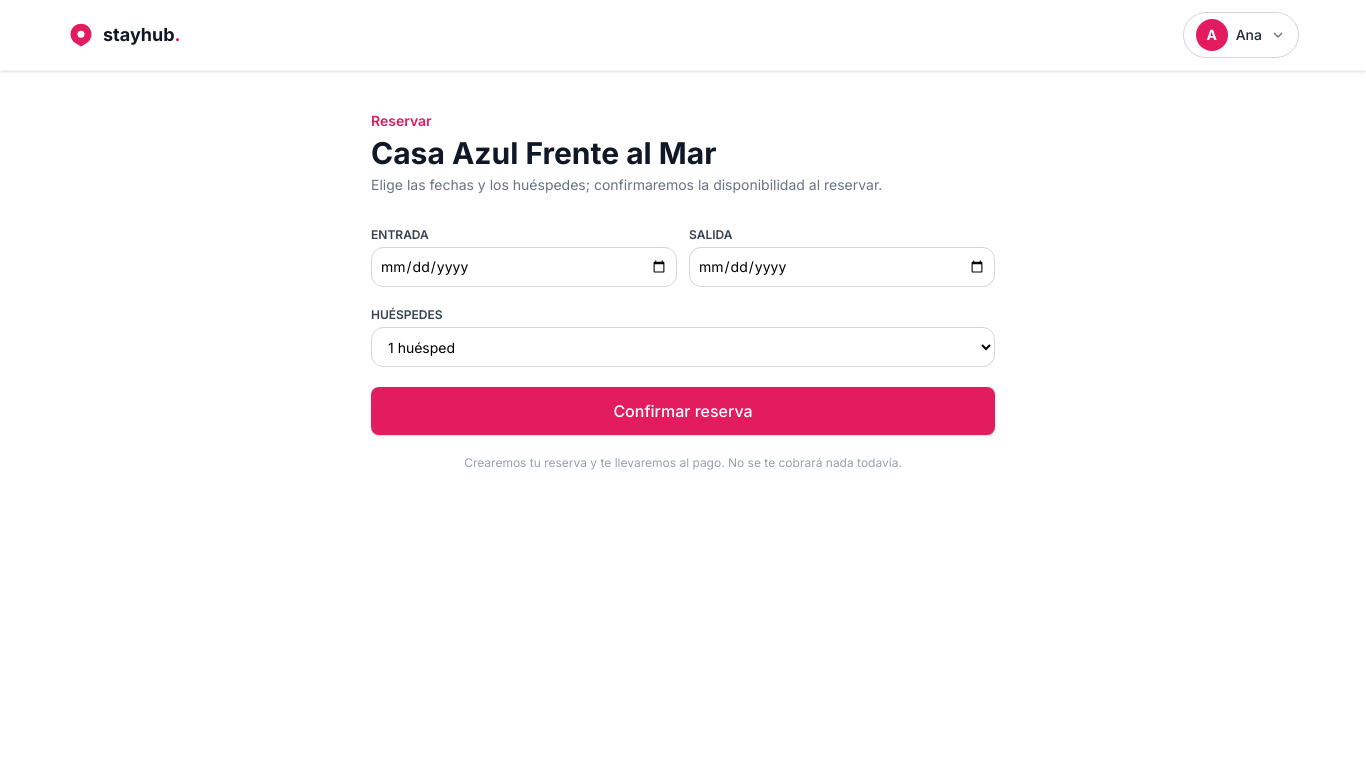
Test: Booking flow — confirmation › shows server field errors (400) without losing input
Expected: the heading "Casa Azul Frente al Mar" is shown, [371,135,716,171]
Type "2027-01-05" into the date field labelled "ENTRADA". click: {"x": 524, "y": 267}
box: [371,247,677,287]
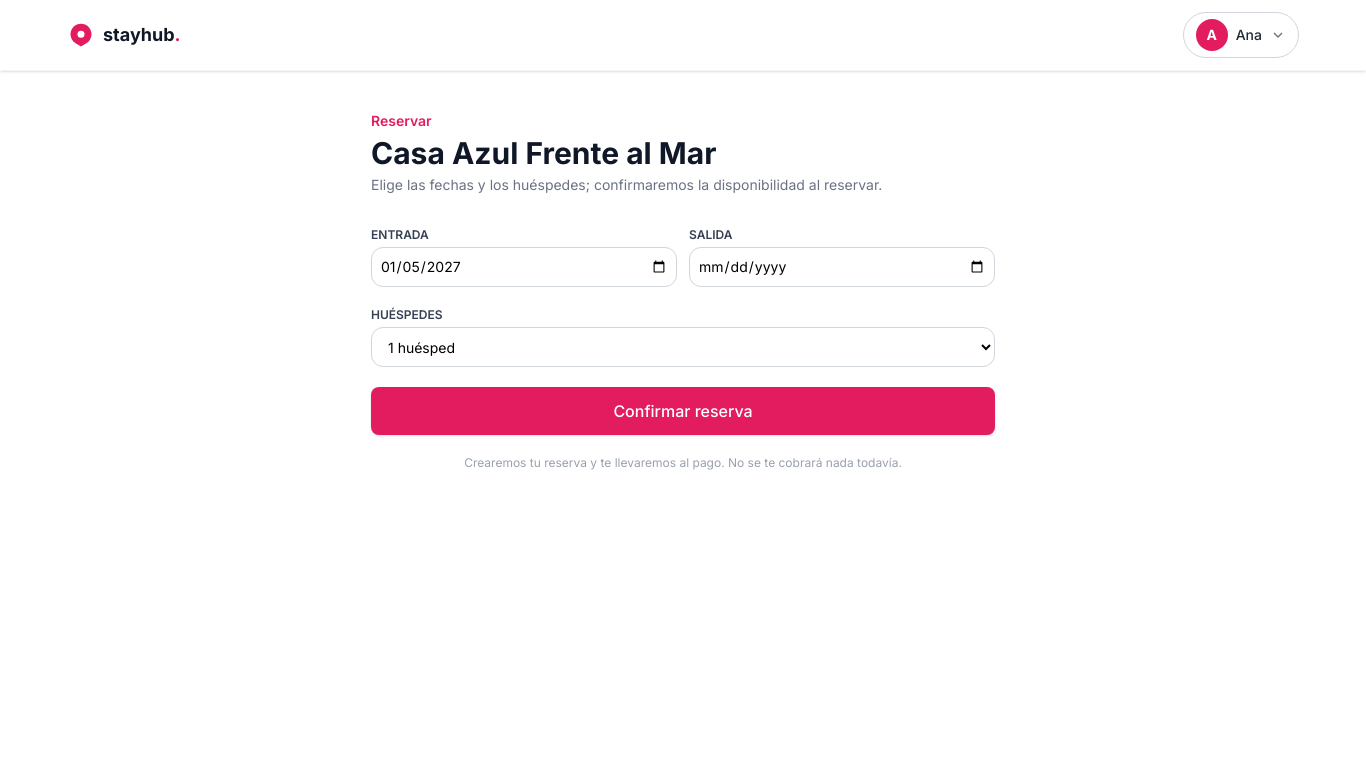
Type "2027-01-08" into the date field labelled "SALIDA". click: {"x": 842, "y": 267}
box: [689,247,995,287]
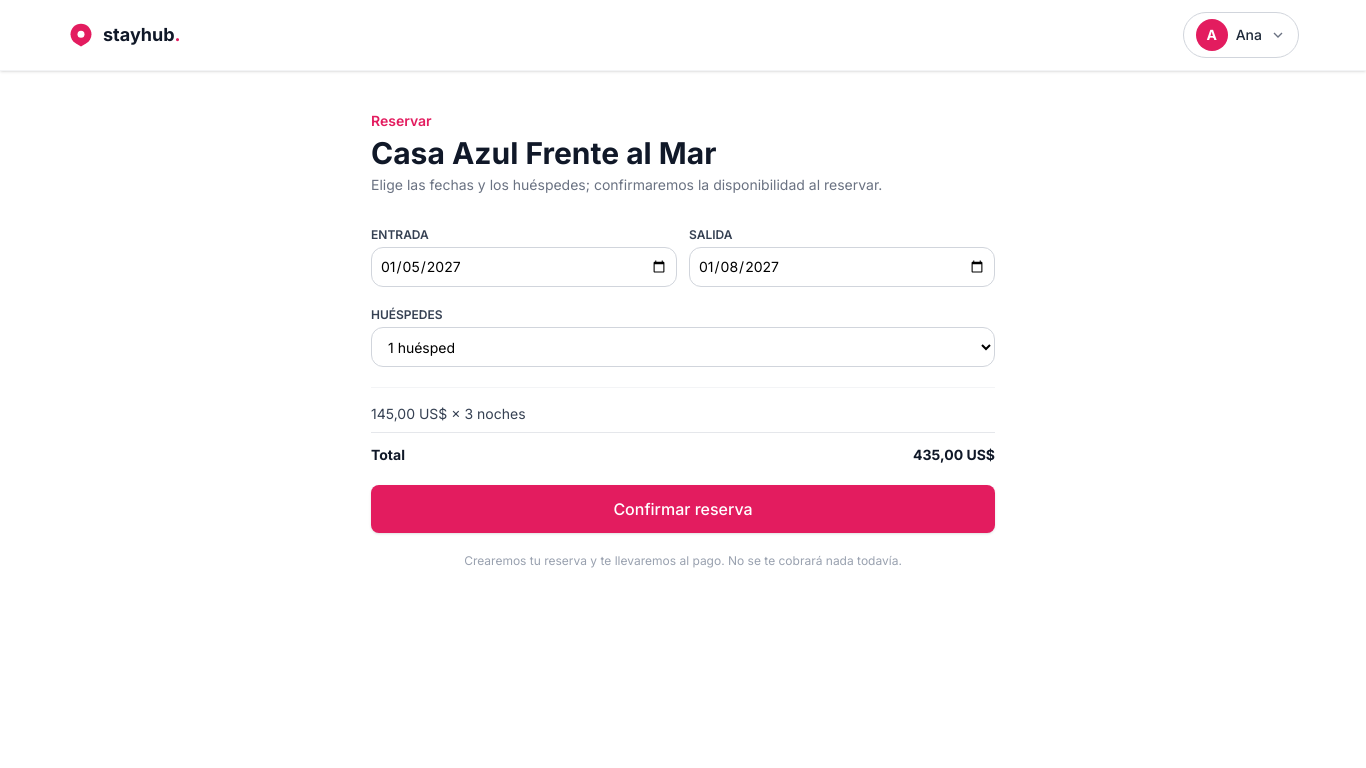
Click the button "Confirmar reserva". click: {"x": 683, "y": 509}
box: [371,485,995,533]
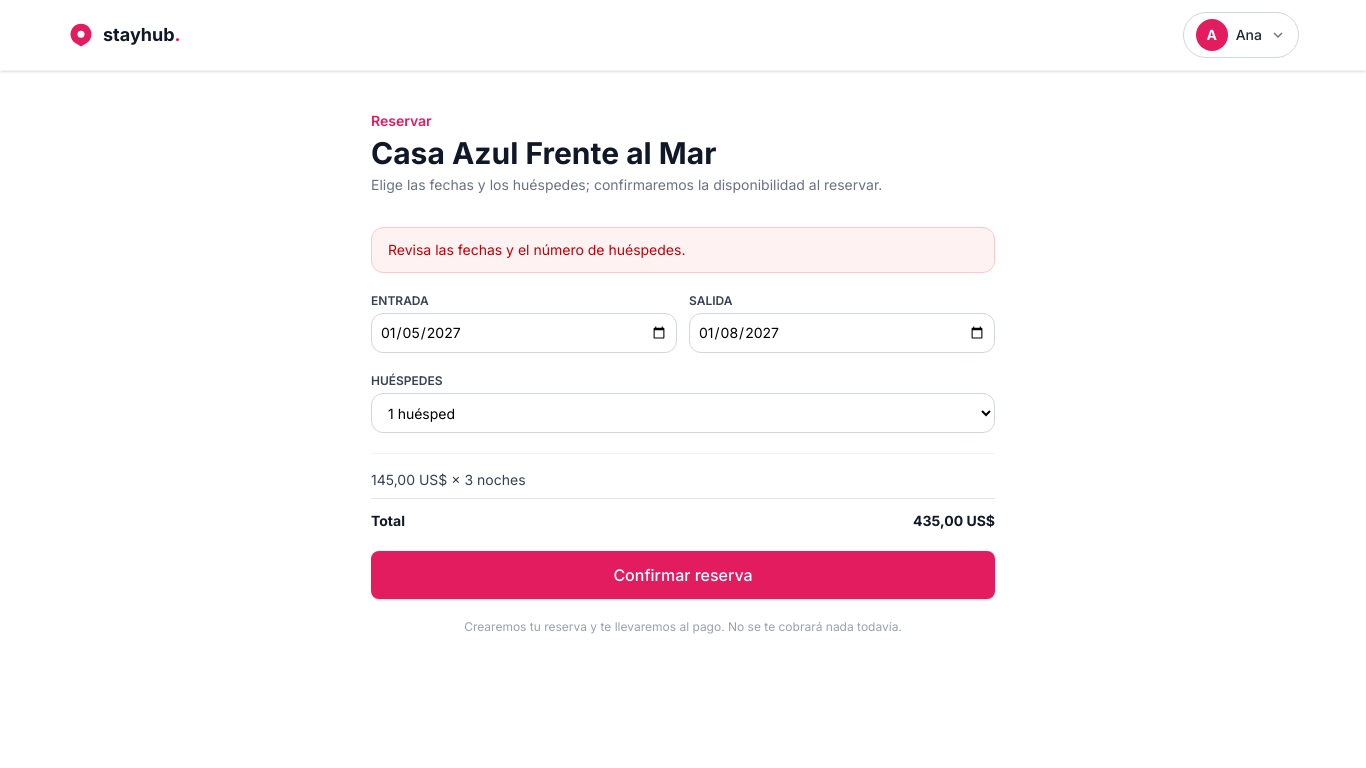
Expected: the text "Revisa las fechas y el número de huéspedes." is shown, [388,241,685,258]
